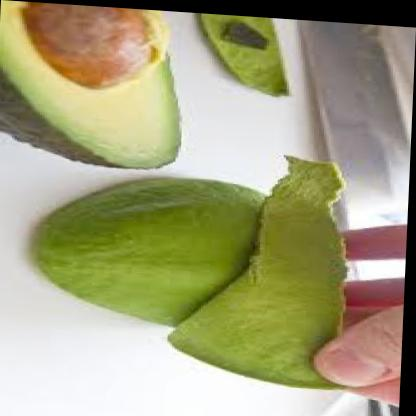Disposable tableware: (14, 2, 411, 416)
